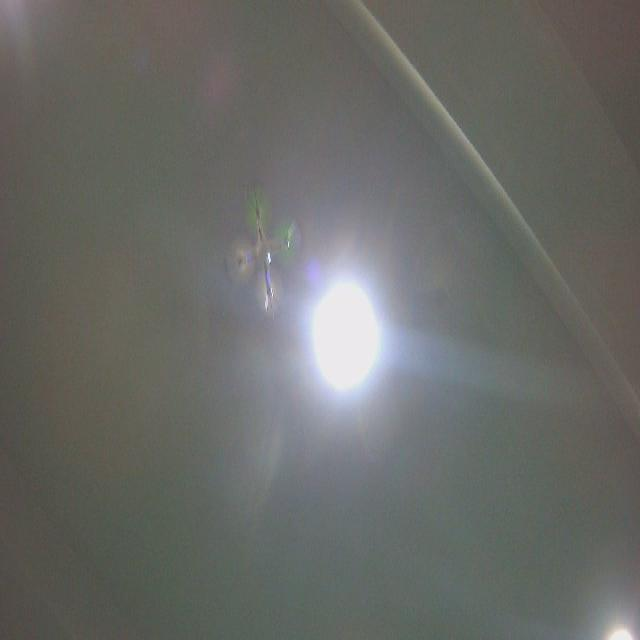drone: (221, 178, 304, 325)
